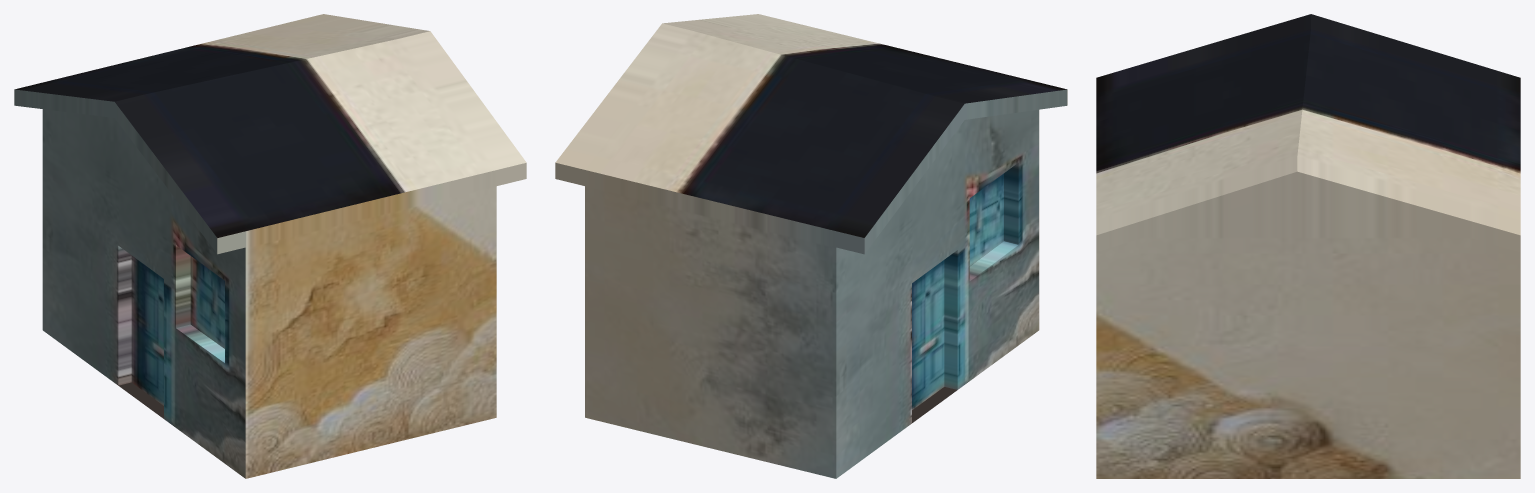
Rendered from casa.glb.
3 renders of one model, left to right at view 1: azimuth 30°, elevation 25°; view 2: azimuth 150°, elevation 25°; view 3: azimuth 270°, elevation 25°, orthographic. The views are drawn at different scales.
Parts seen in each view (by area): view 1: casa; view 2: casa; view 3: casa.
Boxes of the visible parts, x1,y1,x2,y2 form: casa: (14, 14, 526, 478); casa: (555, 14, 1067, 478); casa: (1096, 14, 1520, 478).
Size of what is drawn, in the model's own units: 3.43 by 3.27 by 3.9.
Materials: 1 (1 with a texture image).
